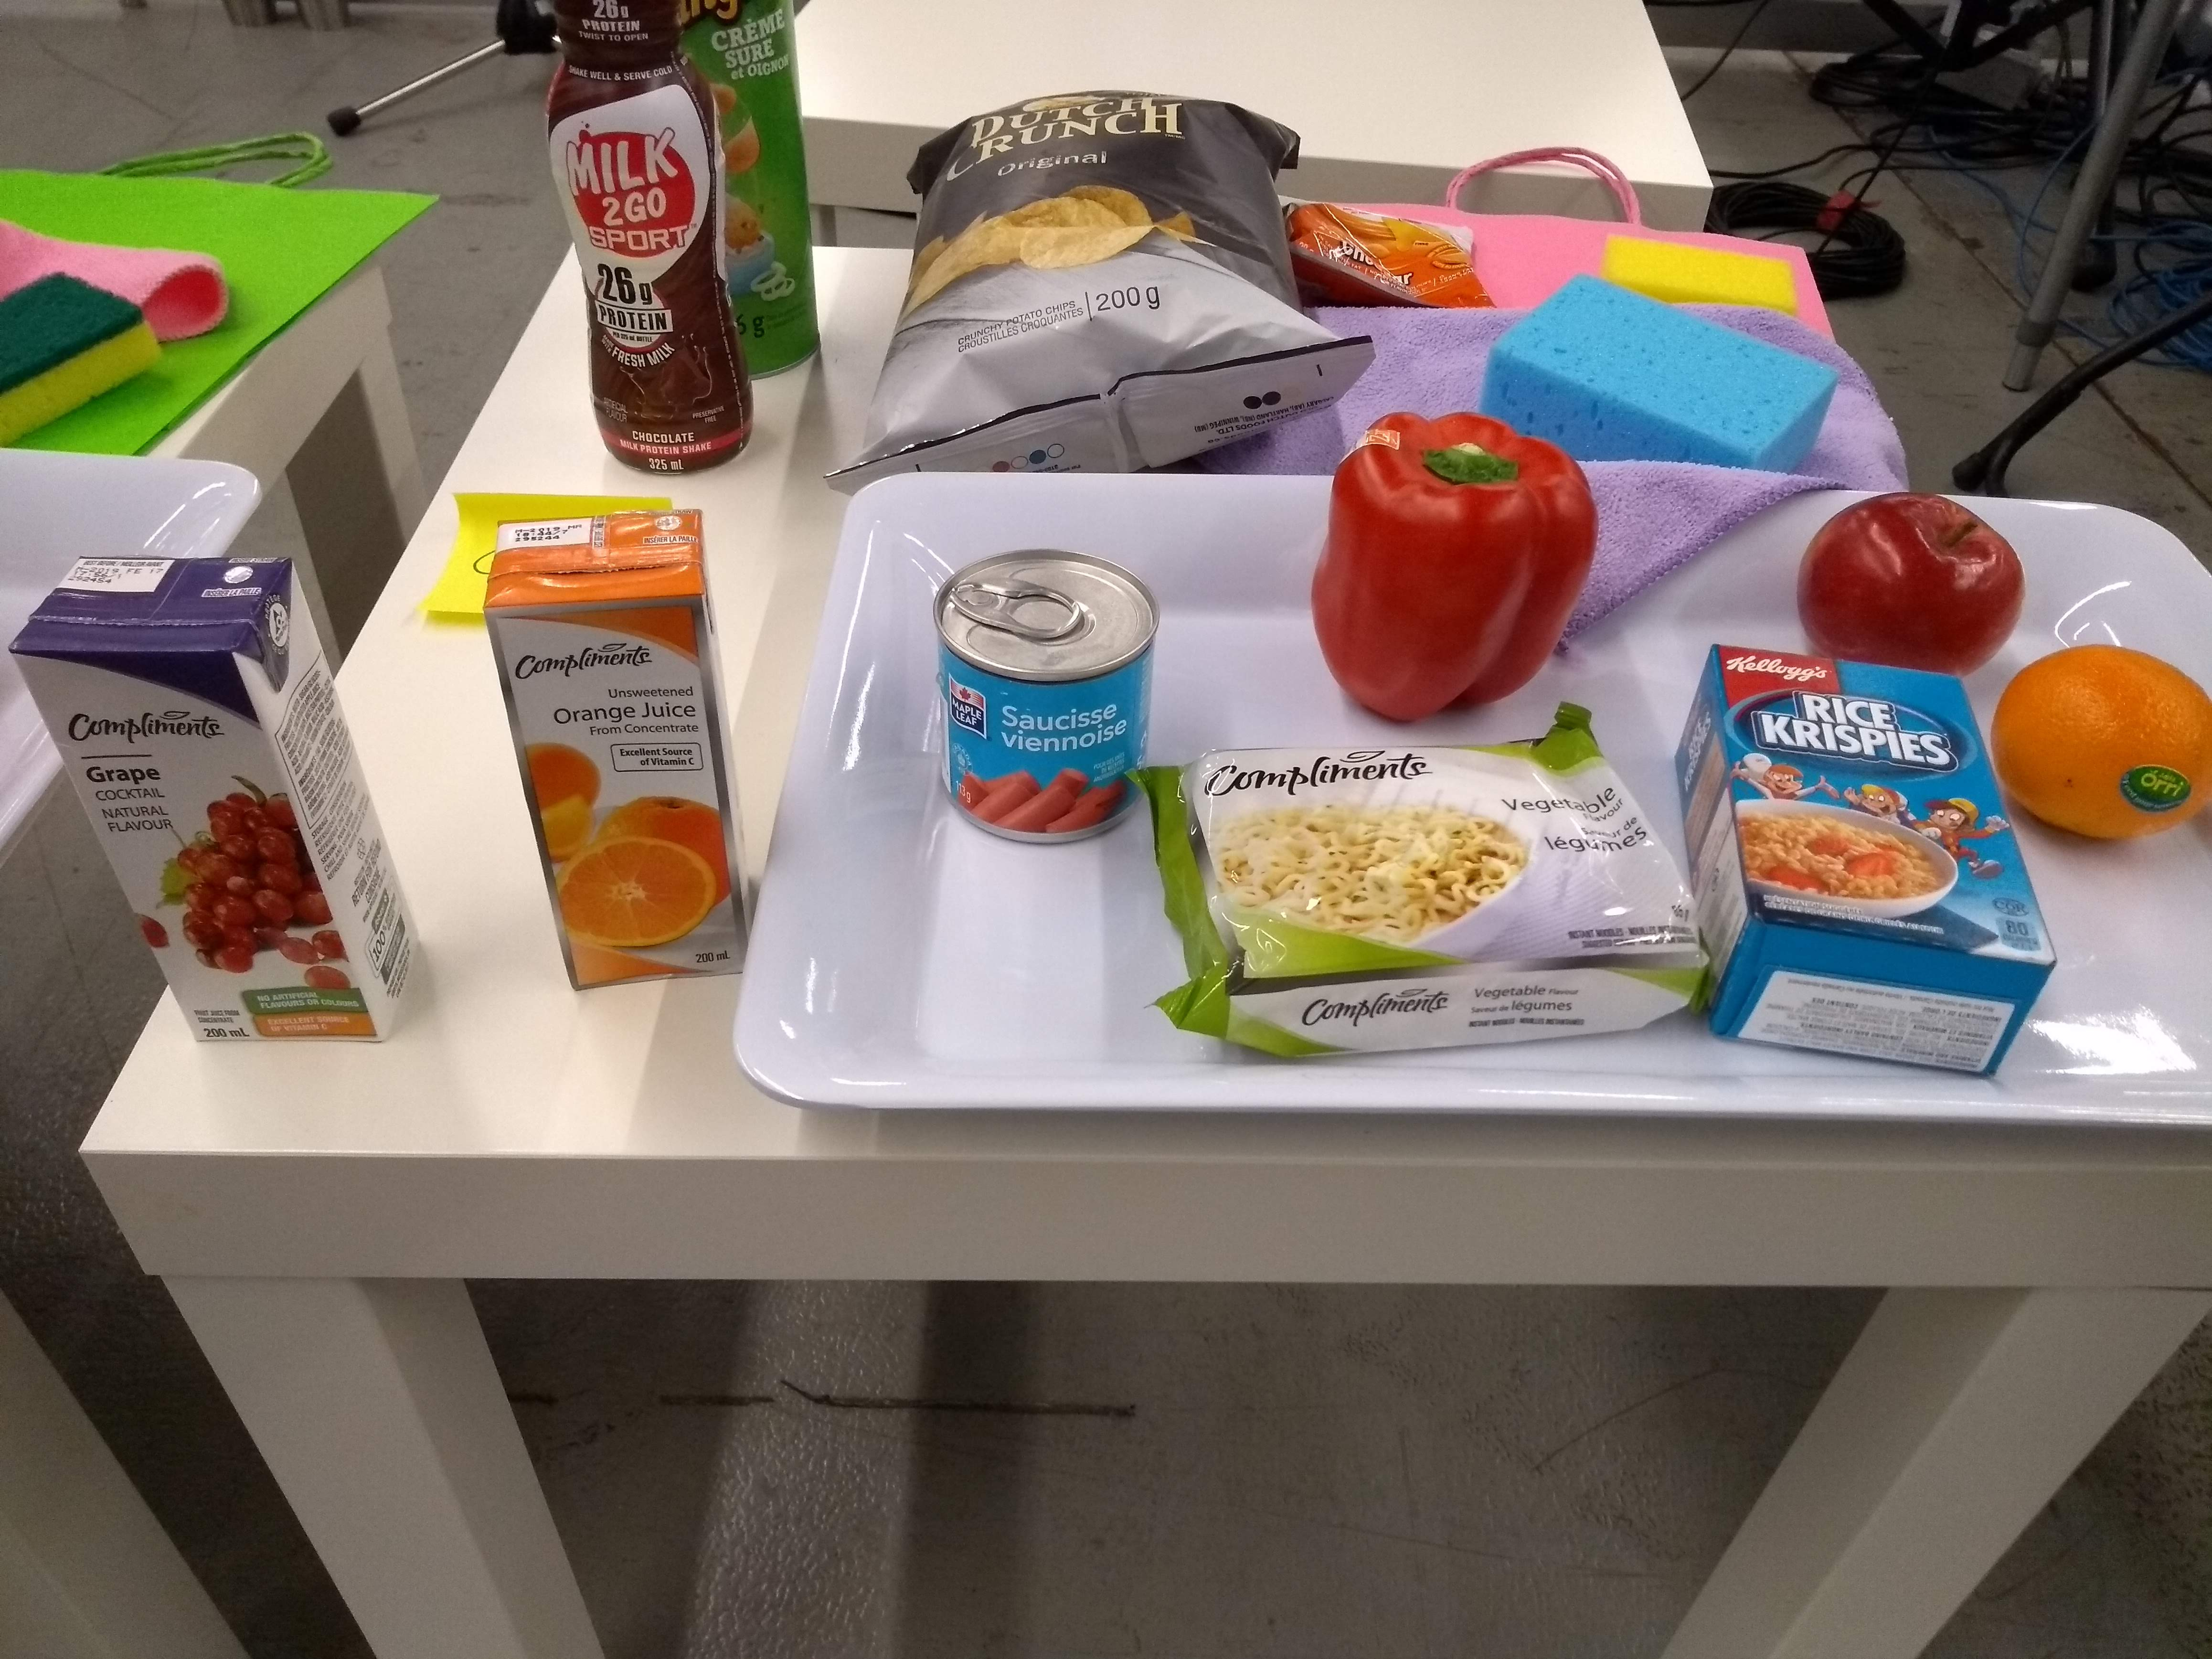apple: (1792, 486, 2031, 692)
cereal: (1656, 643, 2071, 1107)
chocolate_drink: (536, 0, 758, 474)
crackers: (1275, 195, 1507, 321)
grape_juice: (0, 533, 448, 1063)
noodles: (1120, 692, 1705, 1073)
orange: (1987, 643, 2212, 852)
orange_juice: (437, 474, 756, 993)
paprika: (1296, 401, 1609, 732)
potato_chips: (819, 82, 1392, 486)
sausages: (934, 540, 1169, 852)
scrubby: (1599, 227, 1801, 333)
sponge_opl: (1475, 267, 1843, 498)
